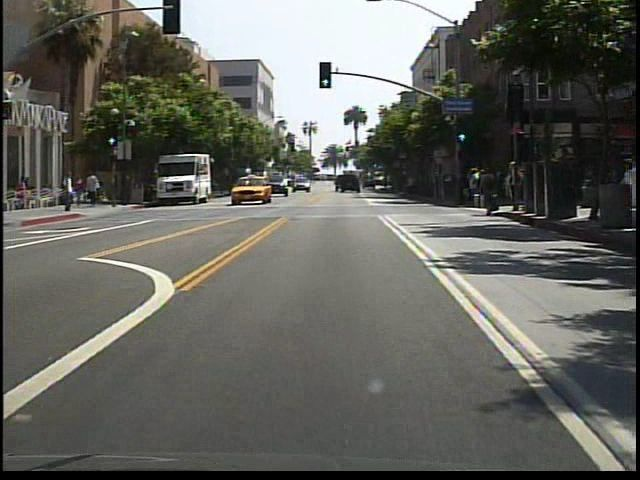person: (476, 164, 499, 220), (62, 169, 78, 215), (16, 175, 34, 213), (87, 168, 103, 207), (75, 174, 87, 207)
